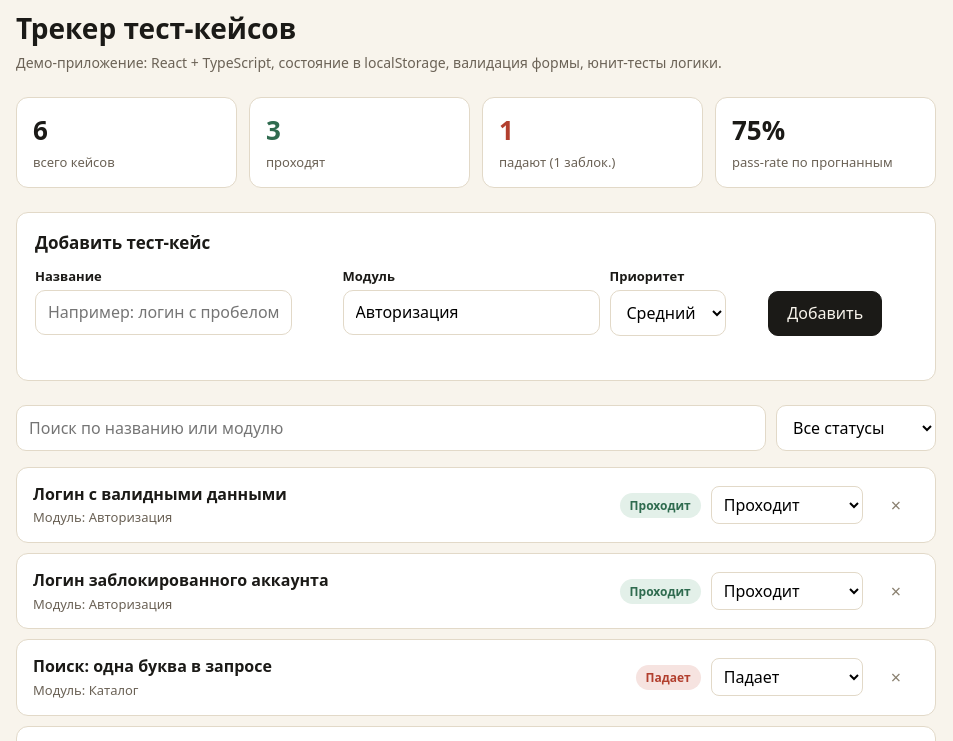
Test case: Фильтр и поиск › по запросу остаётся нужный кейс
This screenshot has width=953, height=741.
Type "заблокированного" into the field labelled "Поиск" at coordinates (391, 428), box 16,405 -> 766,451
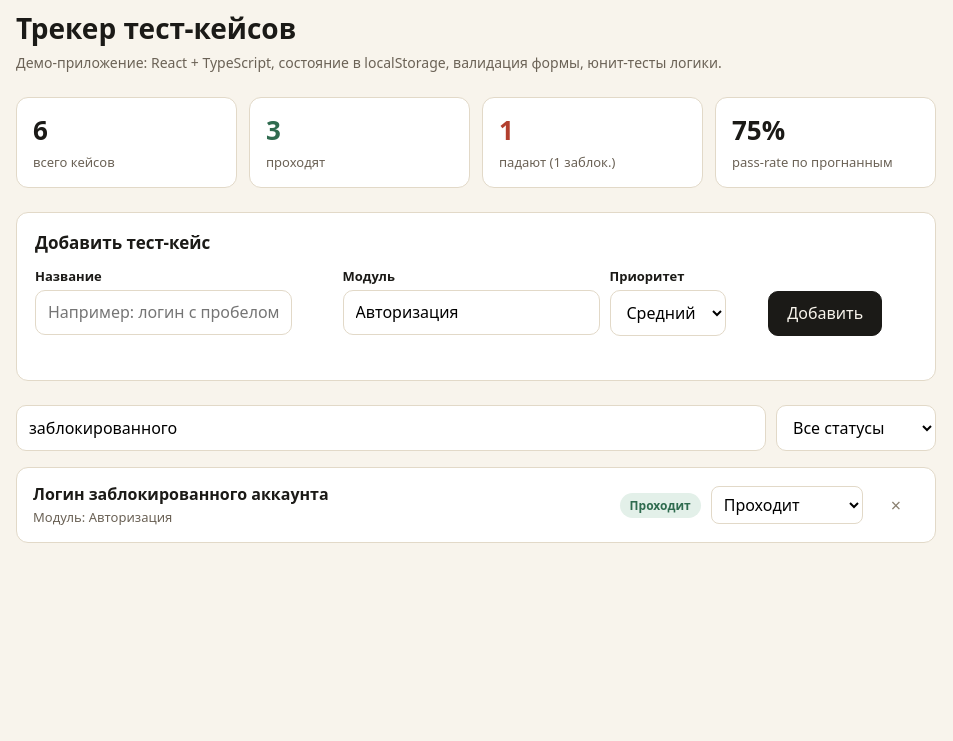
Expected: the text "Логин заблокированного аккаунта" is shown, 33,483 -> 329,505
Expected: the text "Логин с валидными данными" is gone
